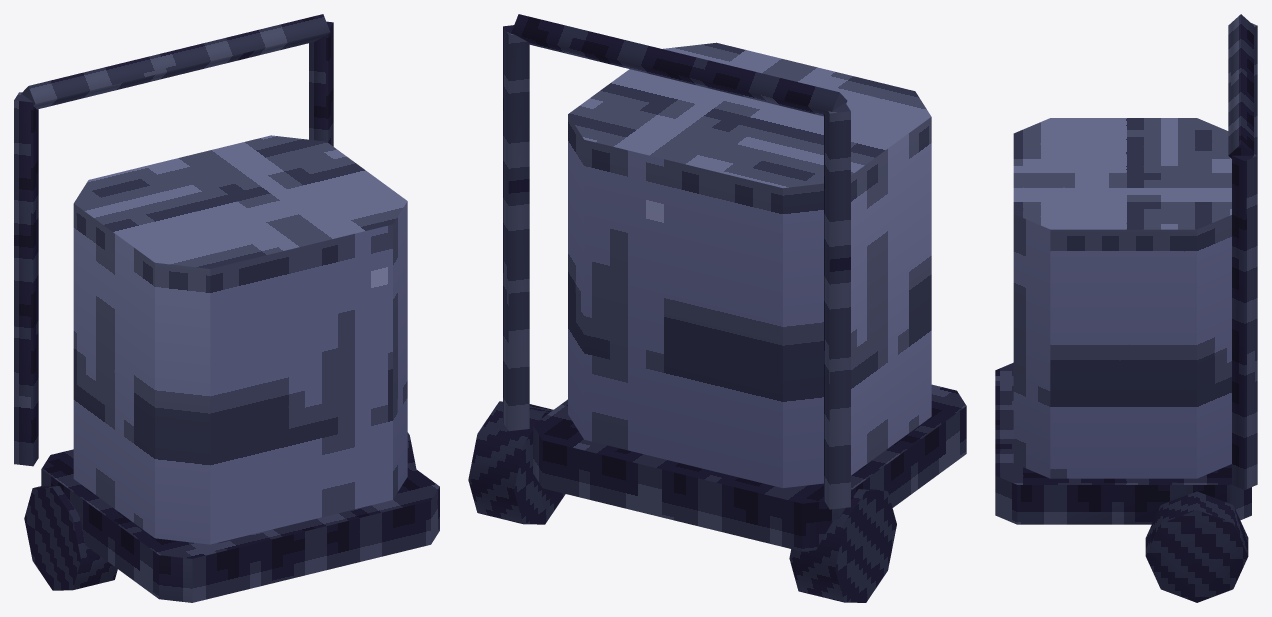
File: cydress.cart.glb
The picture shows the model from 3 angles, left to right: view 1: azimuth 30°, elevation 25°; view 2: azimuth 150°, elevation 25°; view 3: azimuth 270°, elevation 25°; orthographic projection. The views are drawn at different scales.
Visible parts, largest first — view 1: kit_body; view 2: kit_body; view 3: kit_body.
Boxes of the visible parts, left/top/right/bottom form: kit_body: left=14, top=14, right=439, bottom=602; kit_body: left=468, top=14, right=966, bottom=602; kit_body: left=995, top=14, right=1257, bottom=602.
Bounding box in the file's own units: 0.995 × 1.33 × 0.715.
Materials: 3 (3 with a texture image).
